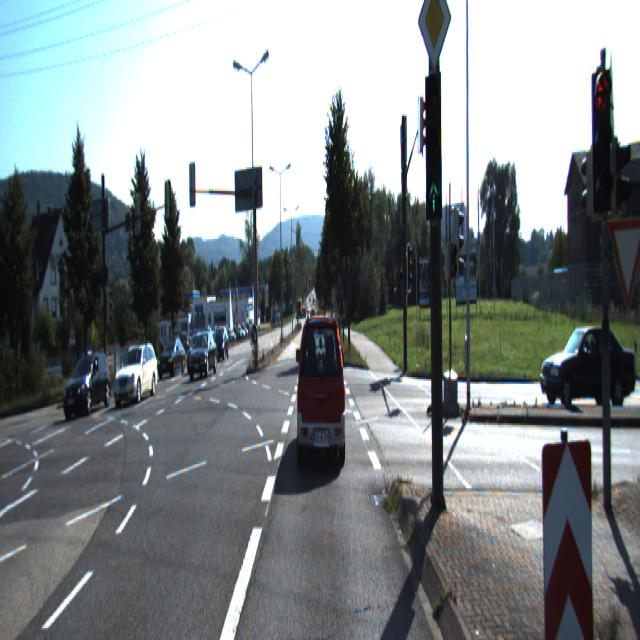Car: (538, 318, 636, 416), (296, 312, 346, 468), (62, 352, 110, 414), (114, 343, 158, 405), (187, 331, 217, 381), (158, 336, 185, 379)
